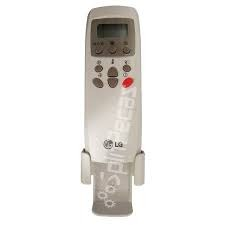remote control: (78, 4, 151, 219)
